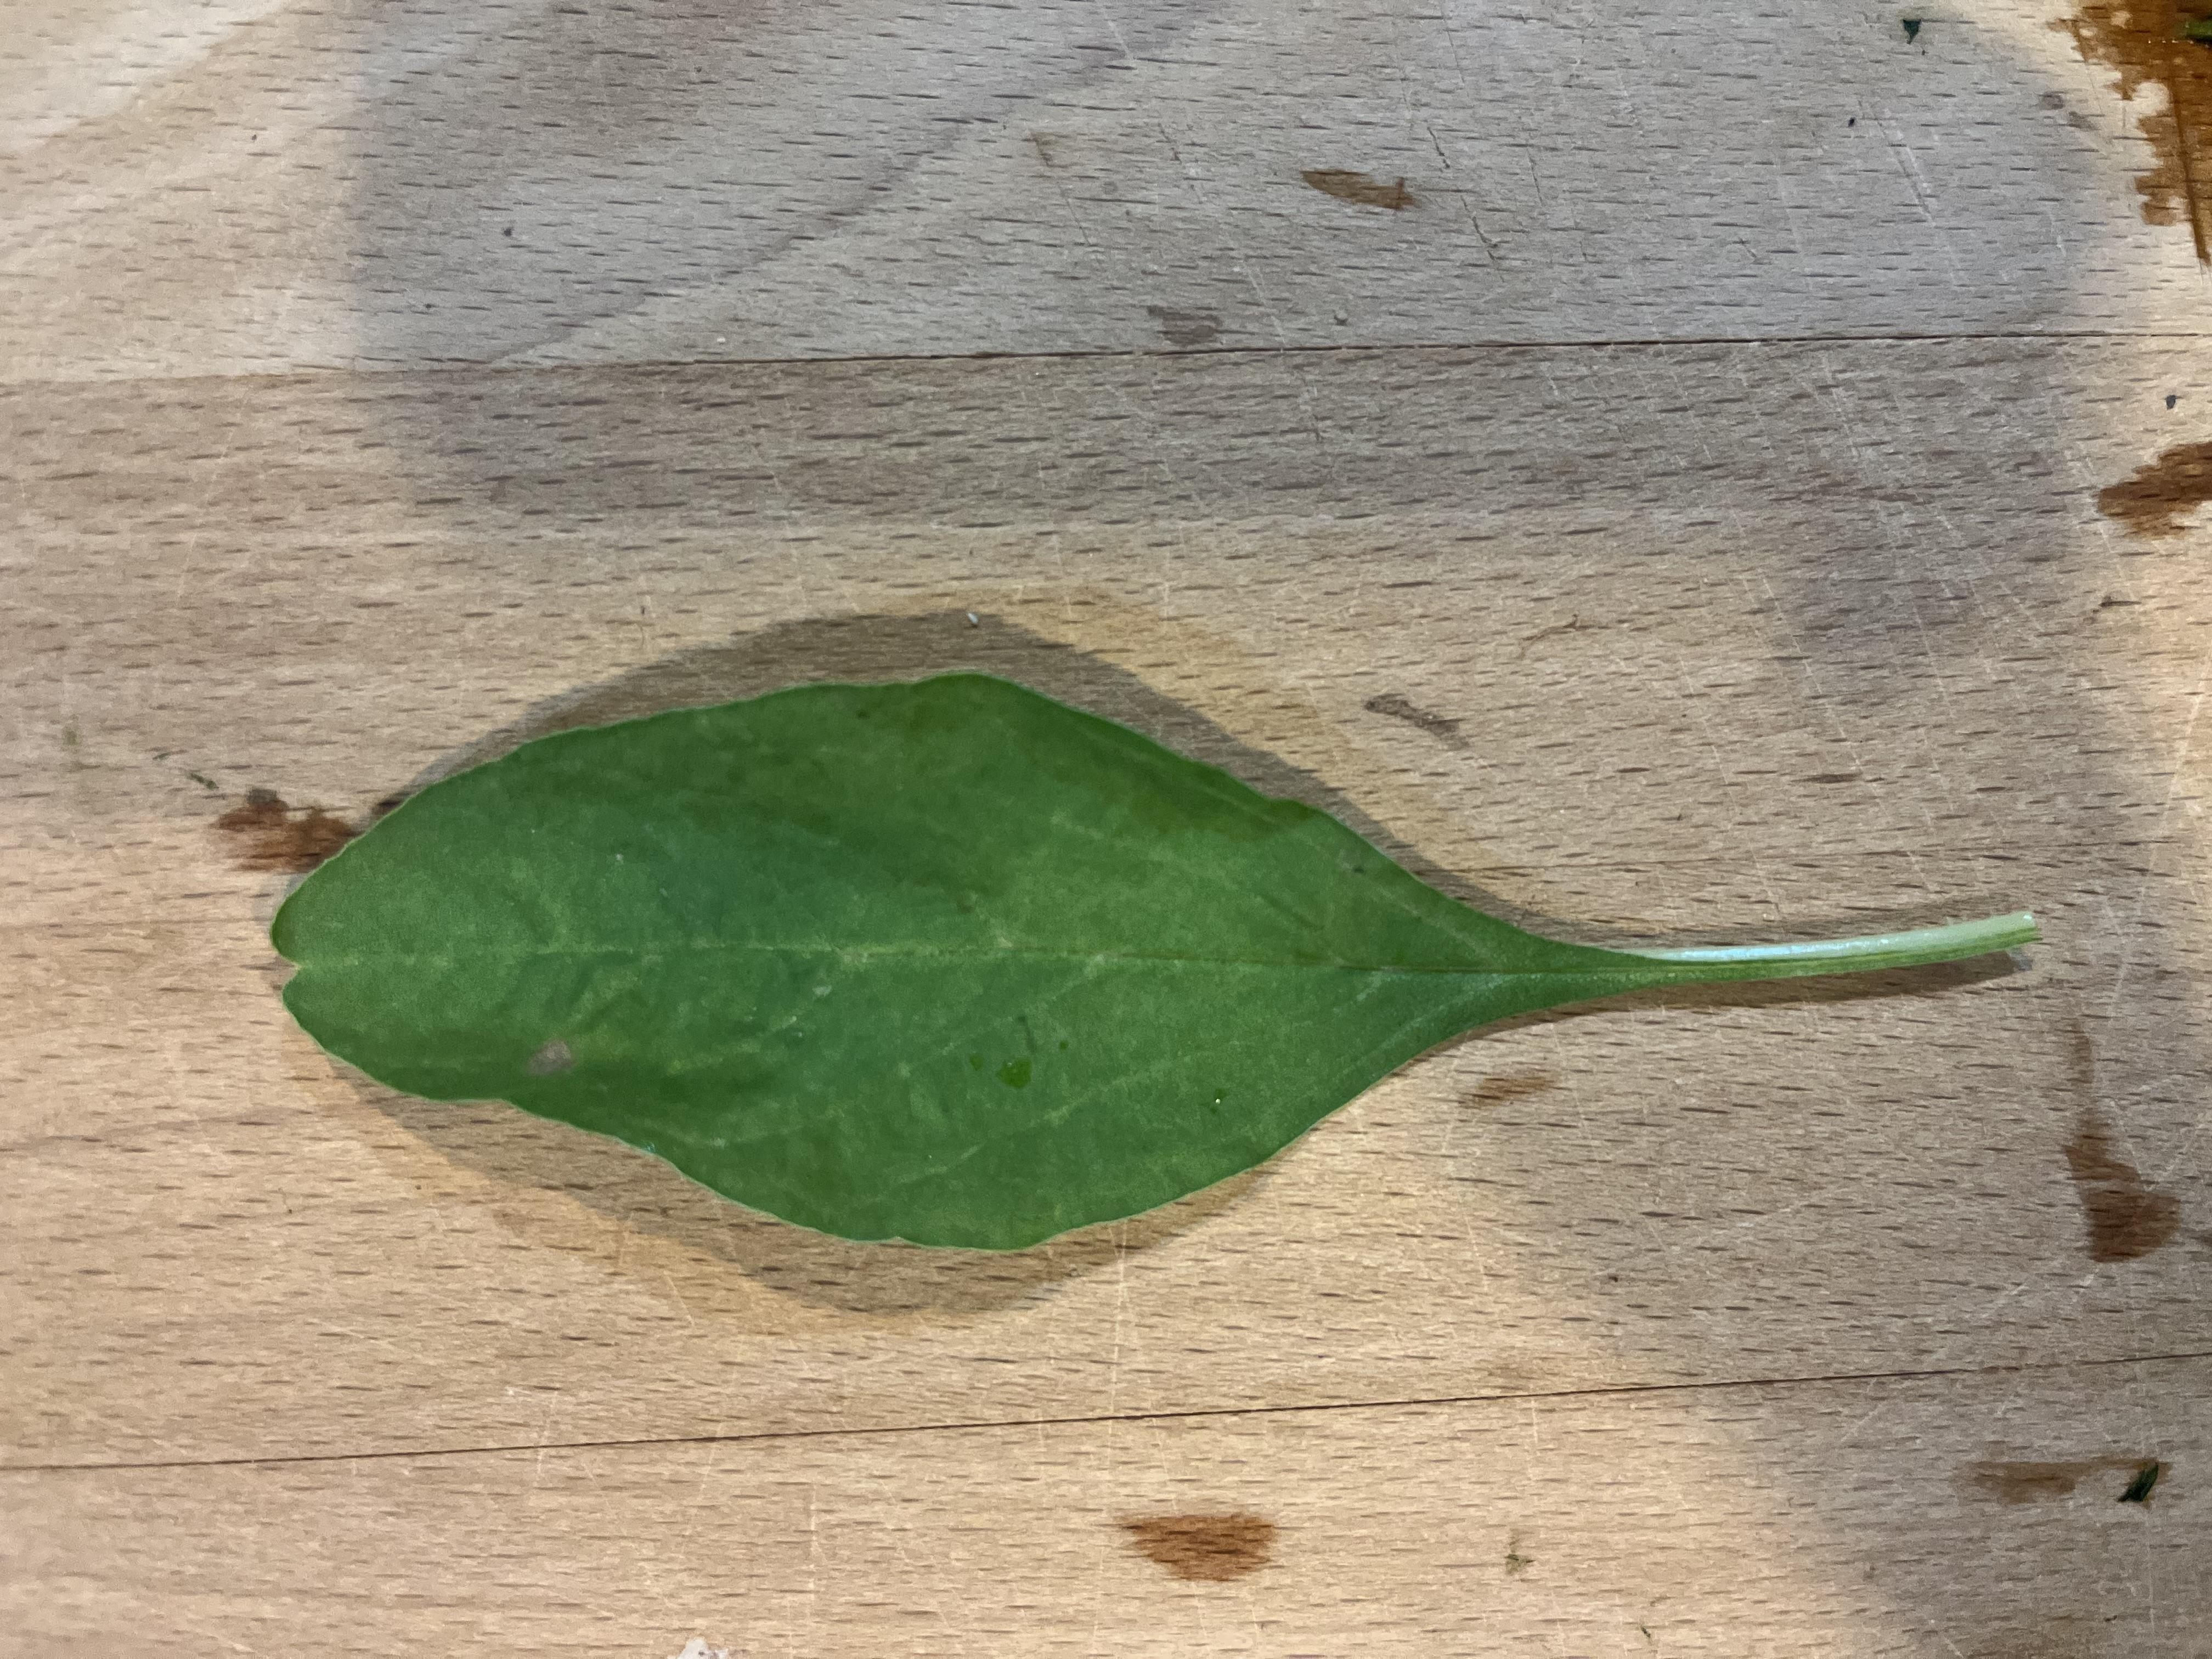Healthy-Pechay: (301, 532, 1975, 1420)
